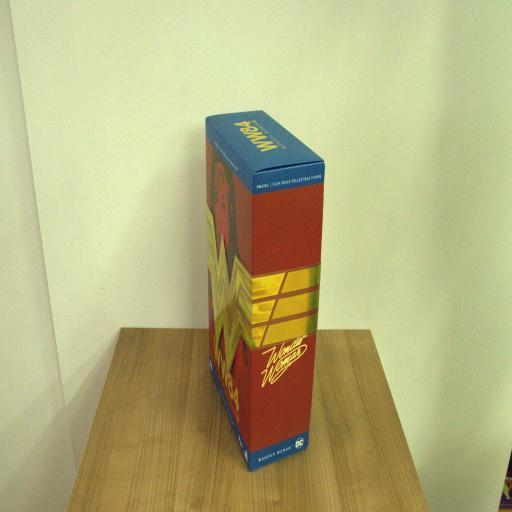WonderWoman: (204, 110, 326, 472)
